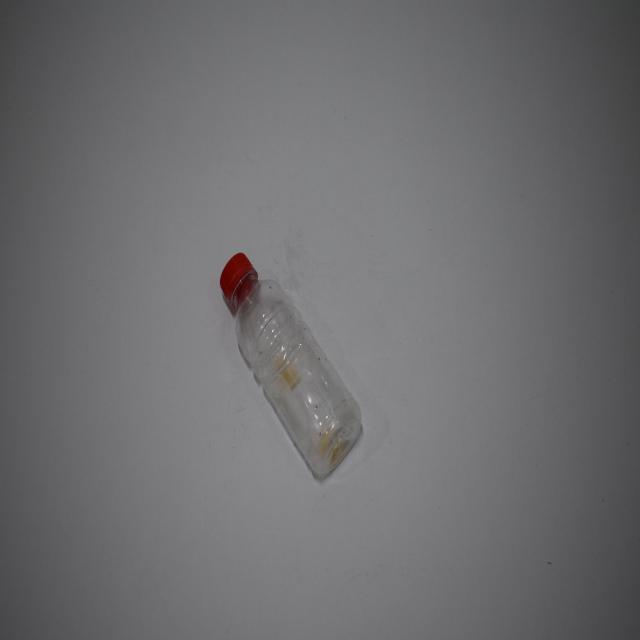empty: (220, 253, 361, 478)
